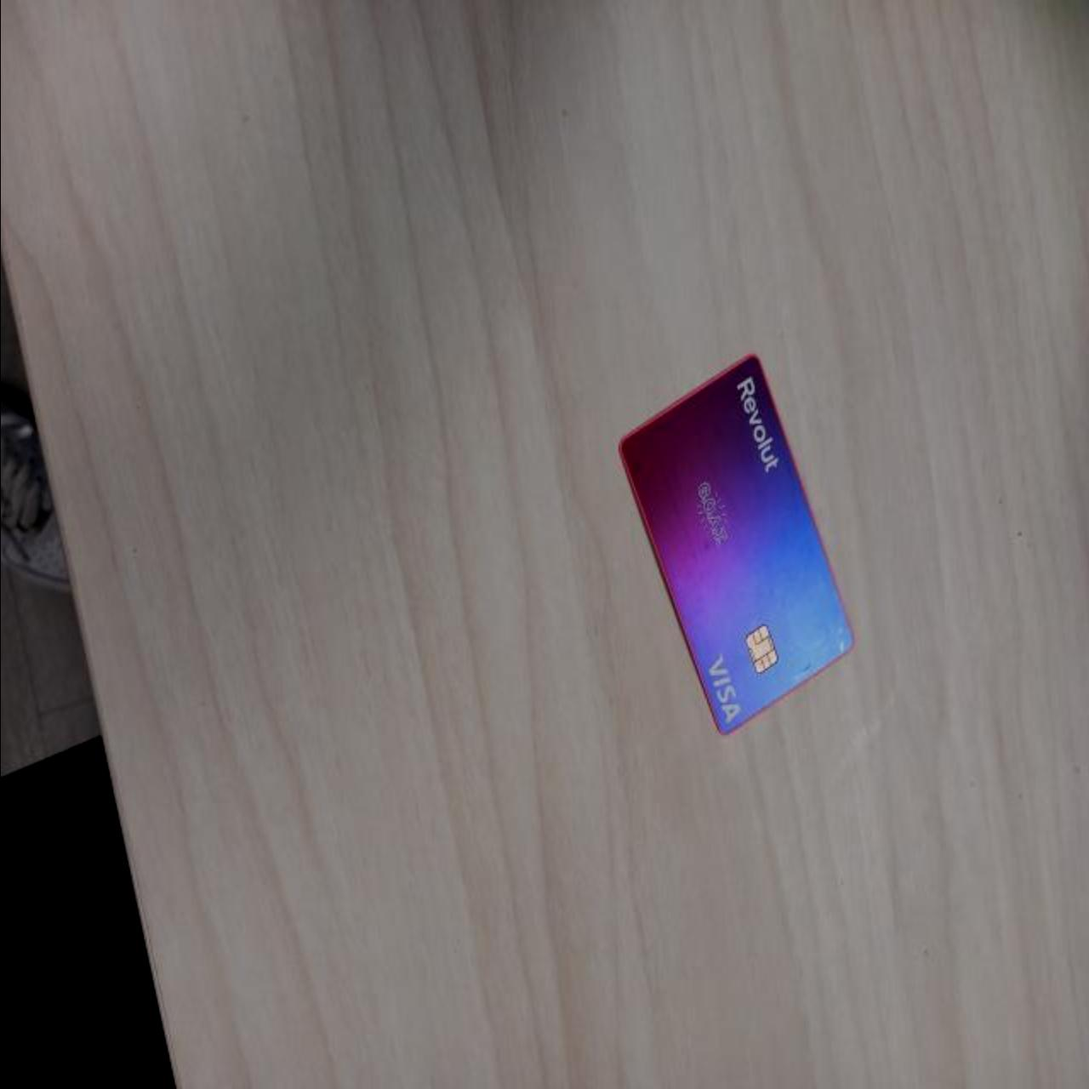credit_card: (617, 362, 857, 730)
